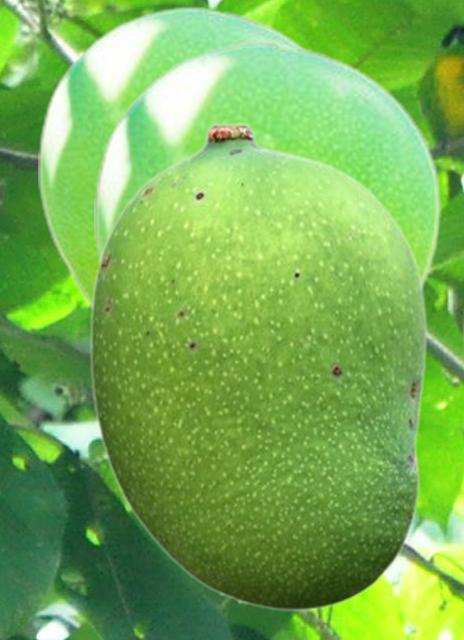green_mango: (88, 121, 426, 611), (94, 40, 440, 292), (38, 5, 308, 309)
